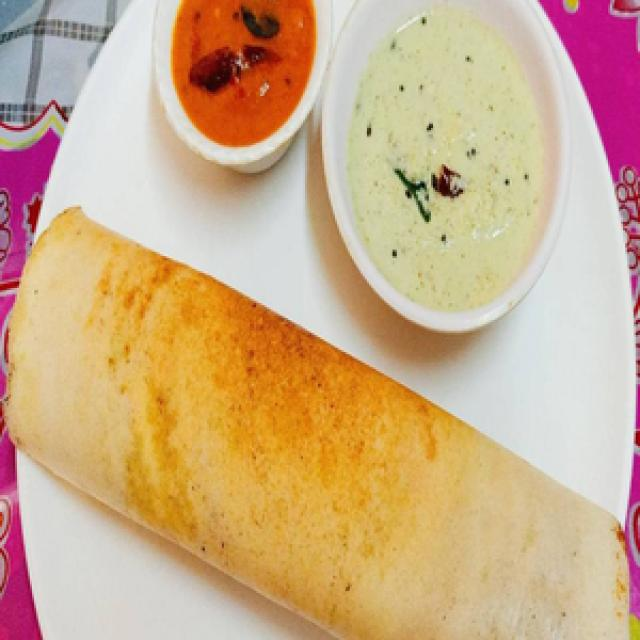dosa: (2, 190, 640, 640)
